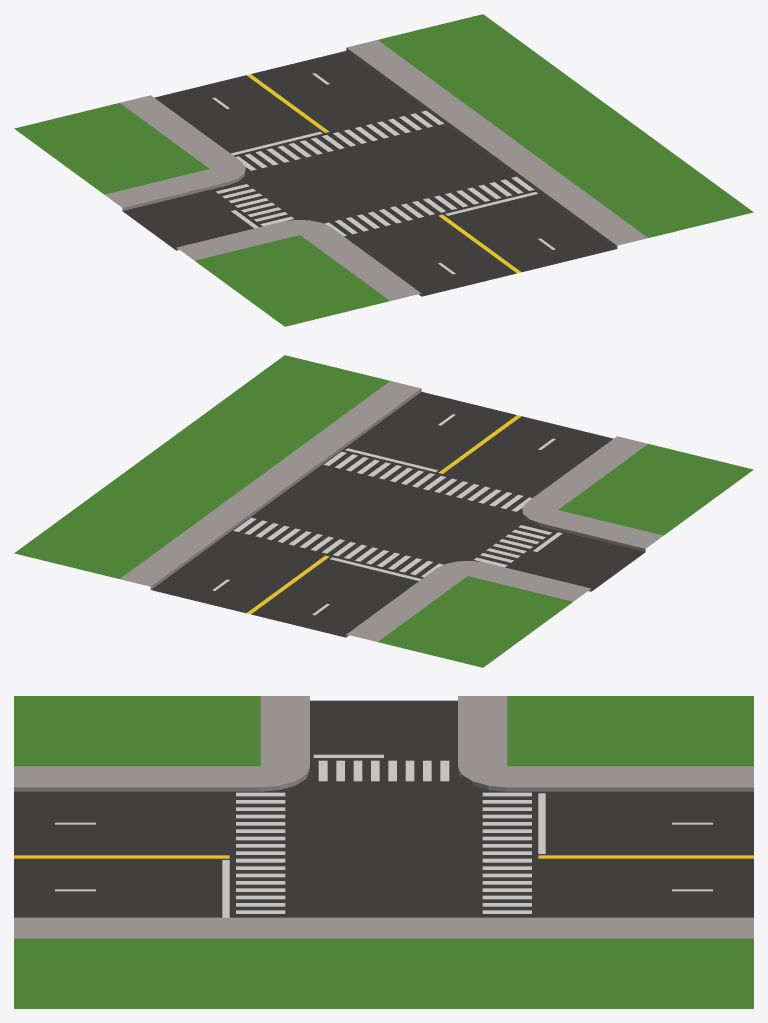
File: tiles-nb_tile-road-mainroad-intersection-t-nb.fbx
3 renders of one model, top to bottom at view 1: azimuth 30°, elevation 25°; view 2: azimuth 150°, elevation 25°; view 3: azimuth 270°, elevation 25°, orthographic. The views are drawn at different scales.
Visible parts, largest first — view 1: tiles_nb_tile_road_mainroad_intersection_t_nb; view 2: tiles_nb_tile_road_mainroad_intersection_t_nb; view 3: tiles_nb_tile_road_mainroad_intersection_t_nb.
Part boxes in pixels (x1,y1,x2,y2): tiles_nb_tile_road_mainroad_intersection_t_nb: (14, 14, 753, 326); tiles_nb_tile_road_mainroad_intersection_t_nb: (14, 355, 753, 667); tiles_nb_tile_road_mainroad_intersection_t_nb: (14, 696, 753, 1008).
Size of the model in its own units: 200 by 1.33 by 200.
